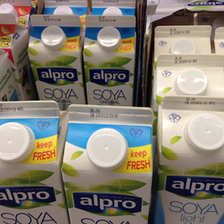milk: (62, 105, 152, 224), (154, 96, 222, 224), (1, 101, 69, 224), (28, 14, 86, 107), (84, 15, 137, 105)
